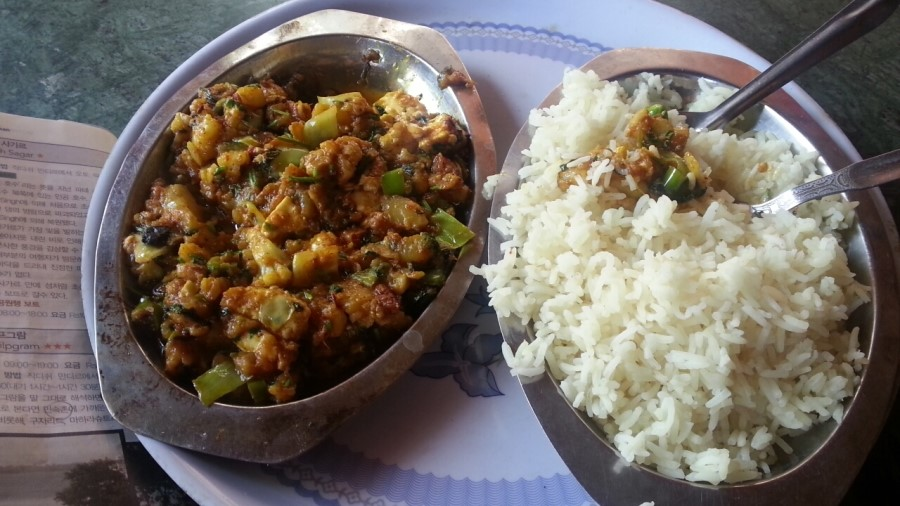plain rice: (544, 119, 840, 452)
